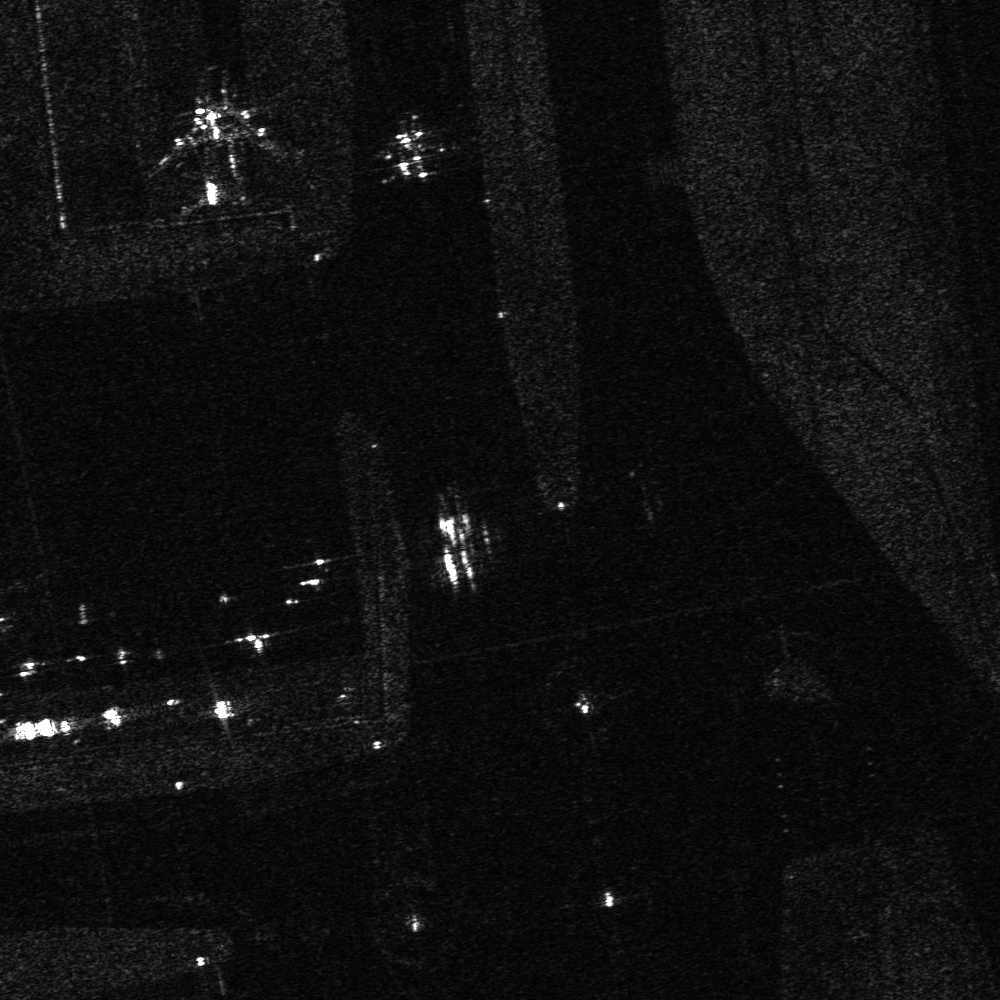A330: (360, 107, 465, 192)
other: (147, 84, 289, 214)
